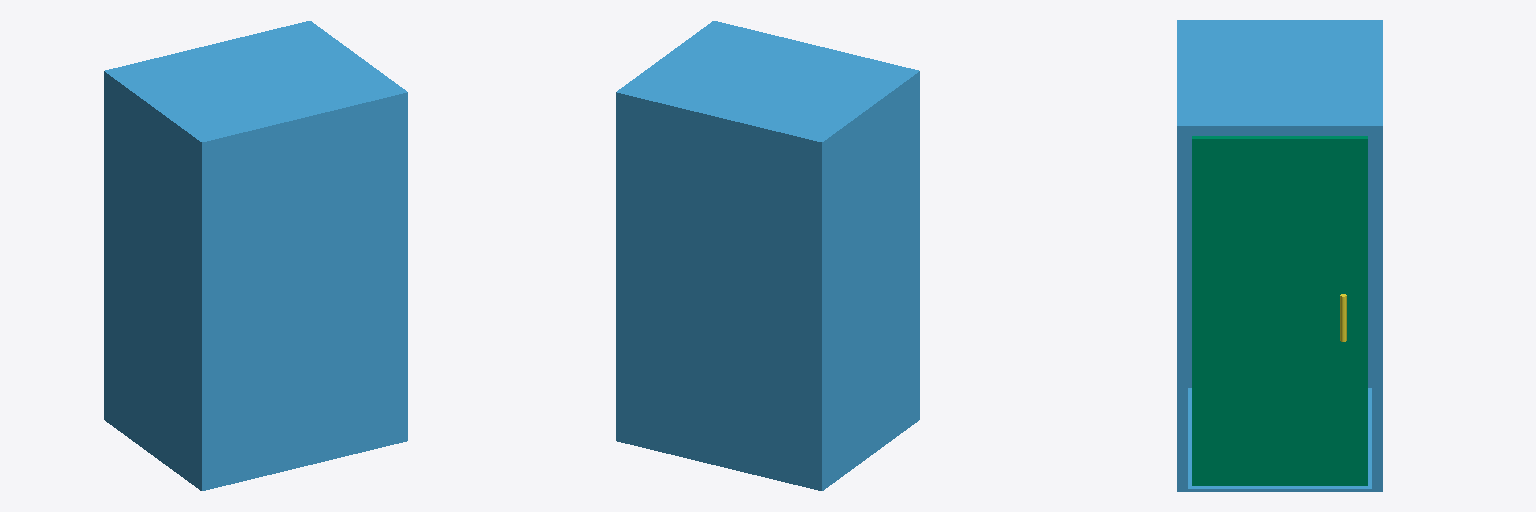
robot.urdf — my_cabinet:
<?xml version="1.0" ?>
<robot name="my_cabinet">
	<link name="world"/>
	<joint name="virtual_joint" type="fixed">
		<parent link="world"/>
		<child link="base_cabinet_link"/>
		<origin xyz="0.0 0.0 0.0" rpy="0.0 0.0 0.0"/>
	</joint>
	<link name="base_cabinet_link">
		<visual>
			<origin xyz="0.0 0.0 -0.3137891745856326" rpy="0.0 0.0 0.0"/>
			<geometry>
				<box size="0.4 0.3290185799532797 0.004"/>
			</geometry>
		</visual>
		<collision name="base_cabinet_link_collision_0">
			<origin xyz="0.0 0.0 -0.3137891745856326" rpy="0.0 0.0 0.0"/>
			<geometry>
				<box size="0.4 0.3290185799532797 0.004"/>
			</geometry>
		</collision>
		<visual>
			<origin xyz="0.0 0.15550928997663985 0.007" rpy="0.0 0.0 0.0"/>
			<geometry>
				<box size="0.4 0.018 0.6455783491712652"/>
			</geometry>
		</visual>
		<collision name="base_cabinet_link_collision_1">
			<origin xyz="0.0 0.15550928997663985 0.007" rpy="0.0 0.0 0.0"/>
			<geometry>
				<box size="0.4 0.018 0.6455783491712652"/>
			</geometry>
		</collision>
		<visual>
			<origin xyz="0.0 -0.15550928997663985 0.007" rpy="0.0 0.0 0.0"/>
			<geometry>
				<box size="0.4 0.018 0.6455783491712652"/>
			</geometry>
		</visual>
		<collision name="base_cabinet_link_collision_2">
			<origin xyz="0.0 -0.15550928997663985 0.007" rpy="0.0 0.0 0.0"/>
			<geometry>
				<box size="0.4 0.018 0.6455783491712652"/>
			</geometry>
		</collision>
		<visual>
			<origin xyz="0.0 0.0 0.3207891745856326" rpy="0.0 0.0 0.0"/>
			<geometry>
				<box size="0.4 0.3290185799532797 0.018"/>
			</geometry>
		</visual>
		<collision name="base_cabinet_link_collision_3">
			<origin xyz="0.0 0.0 0.3207891745856326" rpy="0.0 0.0 0.0"/>
			<geometry>
				<box size="0.4 0.3290185799532797 0.018"/>
			</geometry>
		</collision>
		<visual>
			<origin xyz="-0.191 0.0 0.007" rpy="0.0 0.0 0.0"/>
			<geometry>
				<box size="0.018 0.3290185799532797 0.6455783491712652"/>
			</geometry>
		</visual>
		<collision name="base_cabinet_link_collision_4">
			<origin xyz="-0.191 0.0 0.007" rpy="0.0 0.0 0.0"/>
			<geometry>
				<box size="0.018 0.3290185799532797 0.6455783491712652"/>
			</geometry>
		</collision>
		<inertial>
			<mass value="0.200000"/>
			<inertia ixx="0.008750" ixy="0.0" ixz="0.0" iyy="0.009613" iyz="0.0" izz="0.004471"/>
		</inertial>
	</link>
	<link name="door_link">
		<visual>
			<origin xyz="0.0 -0.13150928997663985 0.0"/>
			<geometry>
				<box size="0.018 0.2830185799532797 0.6135783491712652"/>
			</geometry>
		</visual>
		<collision name="door_link_collision">
			<origin xyz="0.0 -0.13150928997663985 0.0"/>
			<geometry>
				<box size="0.018 0.2830185799532797 0.6135783491712652"/>
			</geometry>
		</collision>
		<inertial>
			<mass value="0.200000"/>
			<inertia ixx="0.007610" ixy="0.0" ixz="0.0" iyy="0.006280" iyz="0.0" izz="0.001340"/>
		</inertial>
	</link>
	<joint name="door_joint" type="revolute">
		<origin xyz="0.191 -0.13150928997663985 0.0" rpy="0.000000 -0.000000 3.141593"/>
		<axis xyz="0 0 1"/>
		<parent link="base_cabinet_link"/>
		<child link="door_link"/>
		<limit effort="50" lower="0" upper="-1.5707963267948966" velocity="10"/>
		<dynamics friction="1.0"/>
	</joint>
	<link name="handle_link">
		<visual>
			<origin xyz="0.0 0.0 0.0" rpy="0.0 0.0 0.0"/>
			<geometry>
				<cylinder length="0.08" radius="0.005"/>
			</geometry>
		</visual>
		<collision name="handle_link_collision_0">
			<origin xyz="0.0 0.0 0.0" rpy="0.0 0.0 0.0"/>
			<geometry>
				<cylinder length="0.08" radius="0.005"/>
			</geometry>
		</collision>
		<visual>
			<origin xyz="-0.01 0.0 0.02" rpy="0.0 1.5707963267948966 0.0"/>
			<geometry>
				<cylinder length="0.02" radius="0.003"/>
			</geometry>
		</visual>
		<collision name="handle_link_collision_1">
			<origin xyz="-0.01 0.0 0.02" rpy="0.0 1.5707963267948966 0.0"/>
			<geometry>
				<cylinder length="0.01" radius="0.003"/>
			</geometry>
		</collision>
		<visual>
			<origin xyz="-0.01 0.0 -0.02" rpy="0.0 1.5707963267948966 0.0"/>
			<geometry>
				<cylinder length="0.02" radius="0.003"/>
			</geometry>
		</visual>
		<collision name="handle_link_collision_2">
			<origin xyz="-0.01 0.0 -0.02" rpy="0.0 1.5707963267948966 0.0"/>
			<geometry>
				<cylinder length="0.02" radius="0.003"/>
			</geometry>
		</collision>
		<inertial>
			<mass value="0.050000"/>
			<inertia ixx="0.000027" ixy="0.0" ixz="0.0" iyy="0.000029" iyz="0.0" izz="0.000003"/>
		</inertial>
	</link>
	<joint name="handle_joint" type="fixed">
		<origin xyz="-0.028999999999999998 -0.23301857995327974 0.0" rpy="0.000000 -0.000000 3.141593"/>
		<parent link="door_link"/>
		<child link="handle_link"/>
	</joint>
	<gazebo reference="base_cabinet_link">
		<sensor name="main_sensor" type="contact">
			<selfCollide>true</selfCollide>
			<alwaysOn>true</alwaysOn>
			<updateRate>5.0</updateRate>
			<material>Gazebo/Red</material>
			<contact>
				<collision>base_cabinet_link_collision_0_collision</collision>
				<collision>base_cabinet_link_collision_1_collision</collision>
				<collision>base_cabinet_link_collision_2_collision</collision>
				<collision>base_cabinet_link_collision_3_collision</collision>
				<collision>base_cabinet_link_collision_4_collision</collision>
			</contact>
			<plugin name="gazebo_ros_bumper_controller" filename="libgazebo_ros_bumper.so">
				<bumperTopicName>/contact</bumperTopicName>
				<frameName>world</frameName>
			</plugin>
		</sensor>
	</gazebo>
	<gazebo reference="door_link">
		<sensor name="main_sensor" type="contact">
			<selfCollide>true</selfCollide>
			<alwaysOn>true</alwaysOn>
			<updateRate>5.0</updateRate>
			<material>Gazebo/Red</material>
			<contact>
				<collision>door_link_collision_collision</collision>
			</contact>
			<plugin name="gazebo_ros_bumper_controller" filename="libgazebo_ros_bumper.so">
				<bumperTopicName>/contact_door</bumperTopicName>
				<frameName>contact_door</frameName>
			</plugin>
		</sensor>
	</gazebo>
</robot>

--- What the picture shows (computed from the rendered views, not written in the file) ---
The picture shows the robot from 3 angles, left to right: view 1: azimuth 30°, elevation 25°; view 2: azimuth 150°, elevation 25°; view 3: azimuth 270°, elevation 25°; orthographic projection.
Model my_cabinet with 4 links and 3 joints (1 revolute, 2 fixed), rooted at world, posed every joint at zero.
Visible links, largest first — view 1: base_cabinet_link; view 2: base_cabinet_link; view 3: door_link, base_cabinet_link.
Link boxes in pixels (x1,y1,x2,y2): base_cabinet_link: (104, 21, 407, 490); base_cabinet_link: (616, 21, 919, 490); door_link: (1192, 136, 1367, 485); base_cabinet_link: (1177, 20, 1382, 491).
Bounding box of the posed robot: 0.425 × 0.329 × 0.6456 m (x, y, z).
Geometry: primitives only (box / cylinder / sphere), no mesh files.
